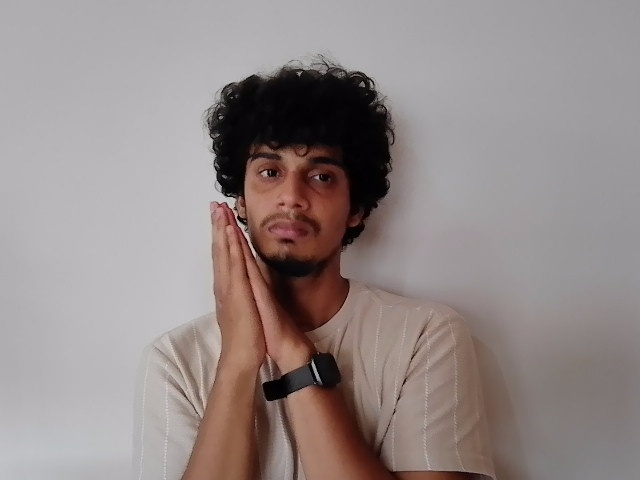sleep: (207, 199, 304, 348)
